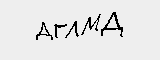Г: (52, 23, 66, 39)
Д: (101, 11, 124, 36), (34, 21, 51, 39)
Л: (66, 19, 79, 39)
М: (81, 13, 100, 35)
